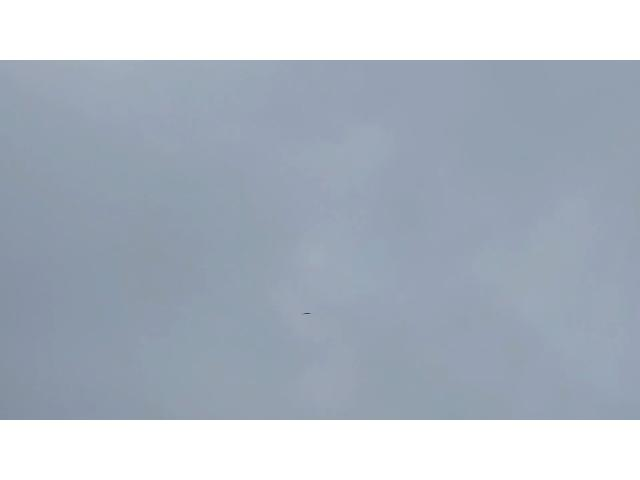Anti-Drone: (302, 312, 312, 316)
